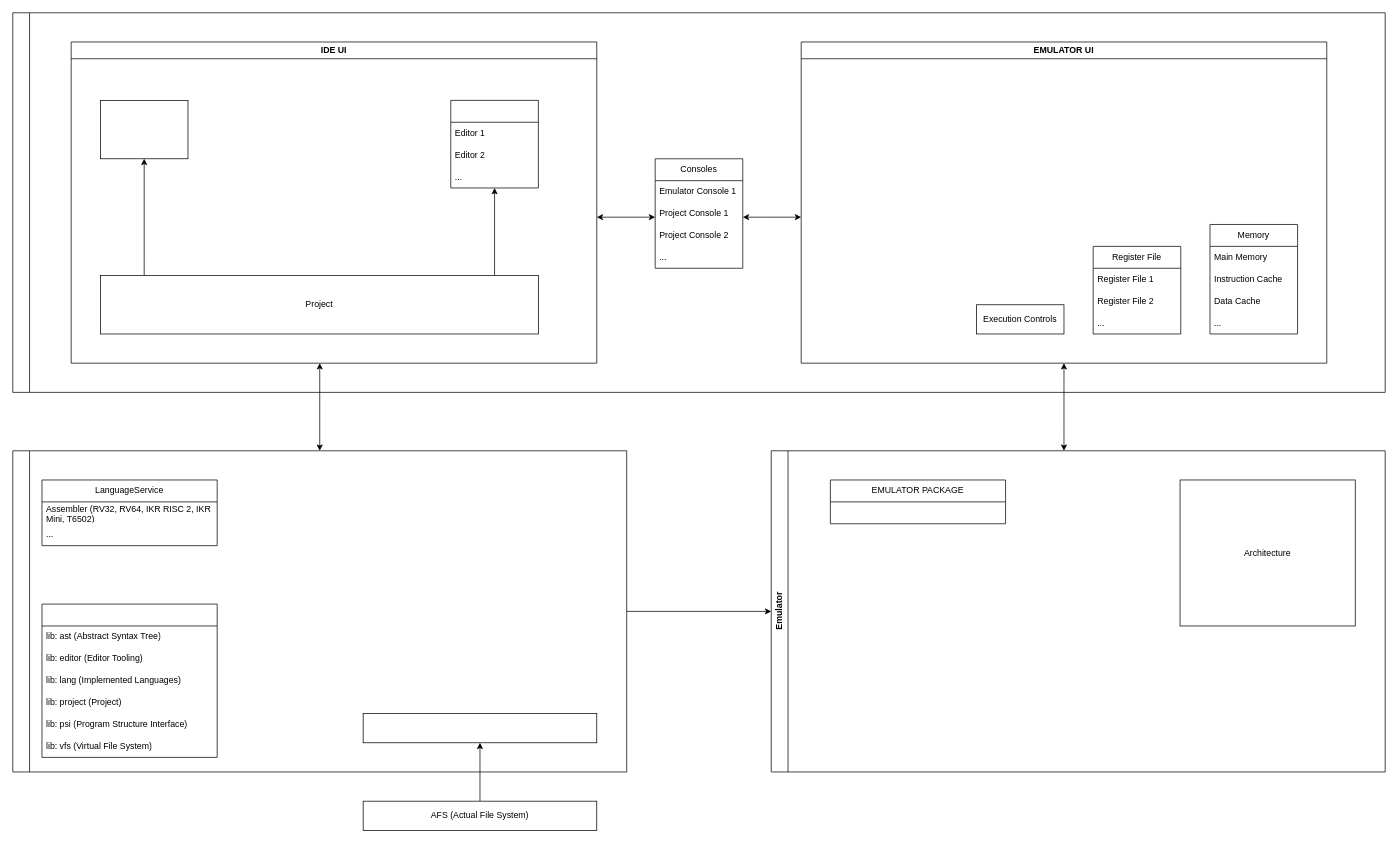
Image size: 1398x843. Some labels were removed from this diagram. Here are the shapes that lost their labels. From the top down, the box of each, then its label:
(100, 100, 188, 159): File Tree
(450, 100, 538, 188): File Editors
(12, 12, 1385, 392): UI
(12, 450, 627, 772): IDE (Project)
(41, 603, 217, 757): CENGINE (IDE Package)
(362, 713, 597, 743): VFS (Virtual File System)
